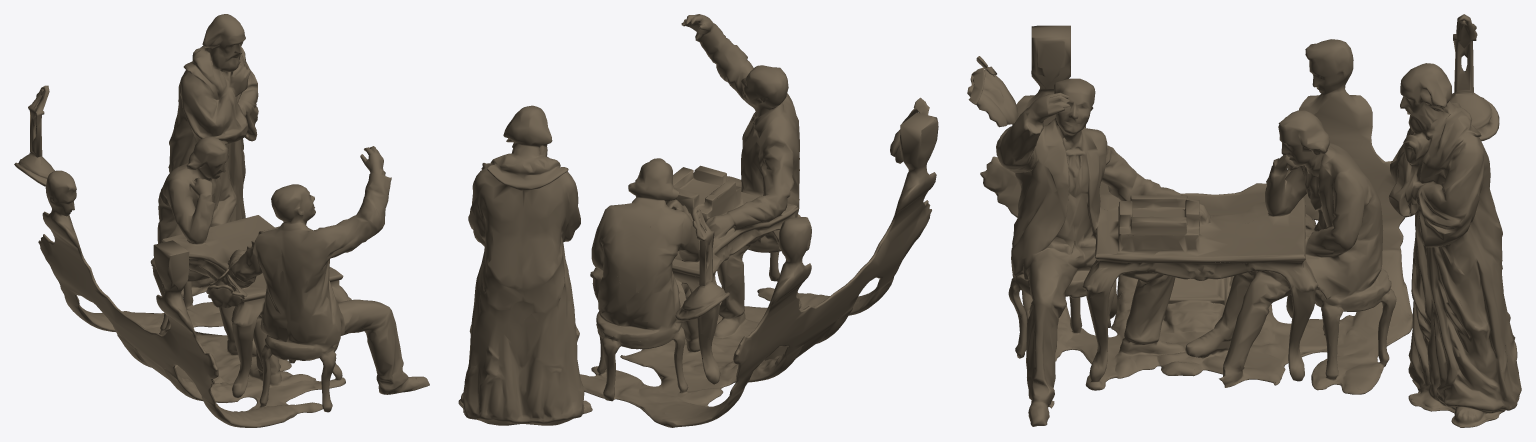
The model's file is inventors-h31.glb.
3 renders of one model, left to right at view 1: azimuth 30°, elevation 25°; view 2: azimuth 150°, elevation 25°; view 3: azimuth 270°, elevation 25°, orthographic. The views are drawn at different scales.
Parts seen in each view (by area): view 1: tripo_node_adf38955-7bd9-4405-8c46-9303ad2b9516; view 2: tripo_node_adf38955-7bd9-4405-8c46-9303ad2b9516; view 3: tripo_node_adf38955-7bd9-4405-8c46-9303ad2b9516.
Boxes of the visible parts, left/top/right/bottom form: tripo_node_adf38955-7bd9-4405-8c46-9303ad2b9516: left=14, top=14, right=429, bottom=427; tripo_node_adf38955-7bd9-4405-8c46-9303ad2b9516: left=458, top=14, right=938, bottom=427; tripo_node_adf38955-7bd9-4405-8c46-9303ad2b9516: left=967, top=14, right=1521, bottom=427.
Size of the model in its own units: 2.12 by 2.05 by 3.08.
